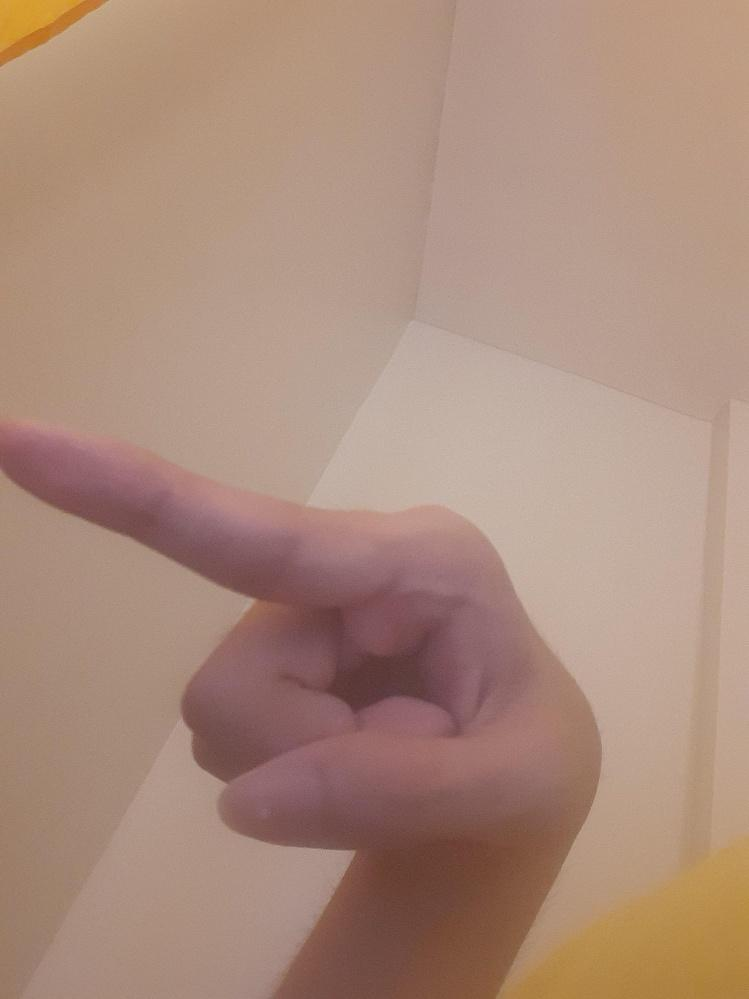z: (0, 416, 603, 849)
